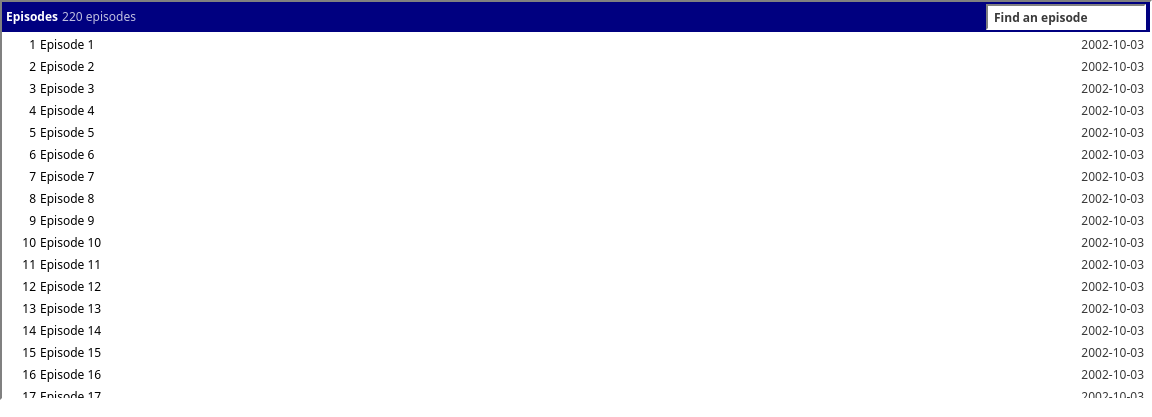
it: StreamEpisodes › filters a long season by number or title
Type "100" into the field labelled "Find an episode" at (1066,17), box 986,4 -> 1146,30
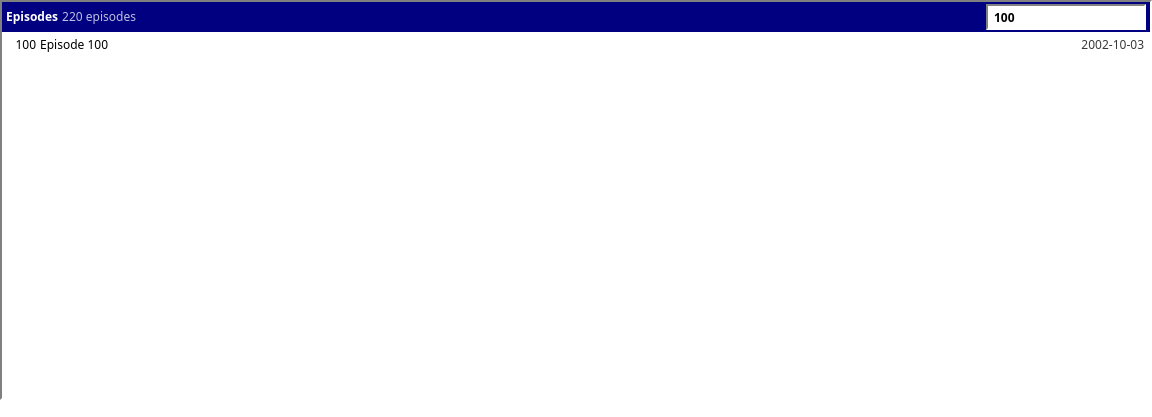
Result: the text "Episode 100" is shown at 40,36 -> 108,53
